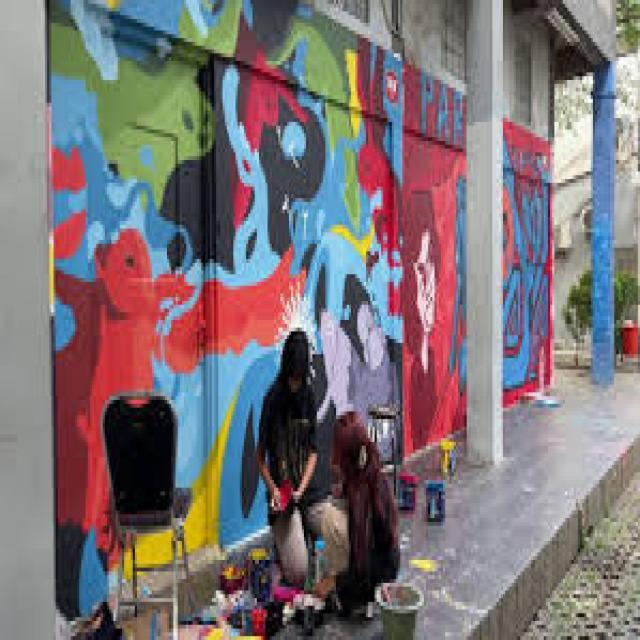-: (47, 0, 404, 634), (406, 65, 554, 458)
